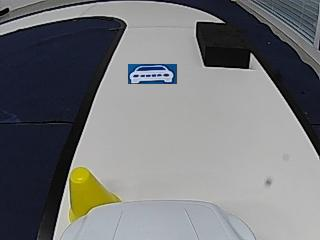block: (195, 21, 249, 67)
cone: (69, 168, 121, 202)
